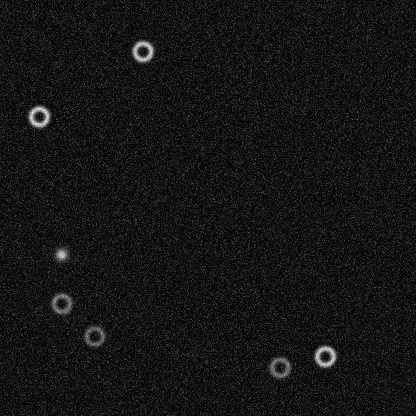Ring: (267, 355, 291, 379), (26, 104, 50, 128), (49, 291, 73, 315), (313, 344, 337, 368), (82, 324, 106, 348), (130, 39, 154, 63)
Spot: (53, 246, 69, 262)
